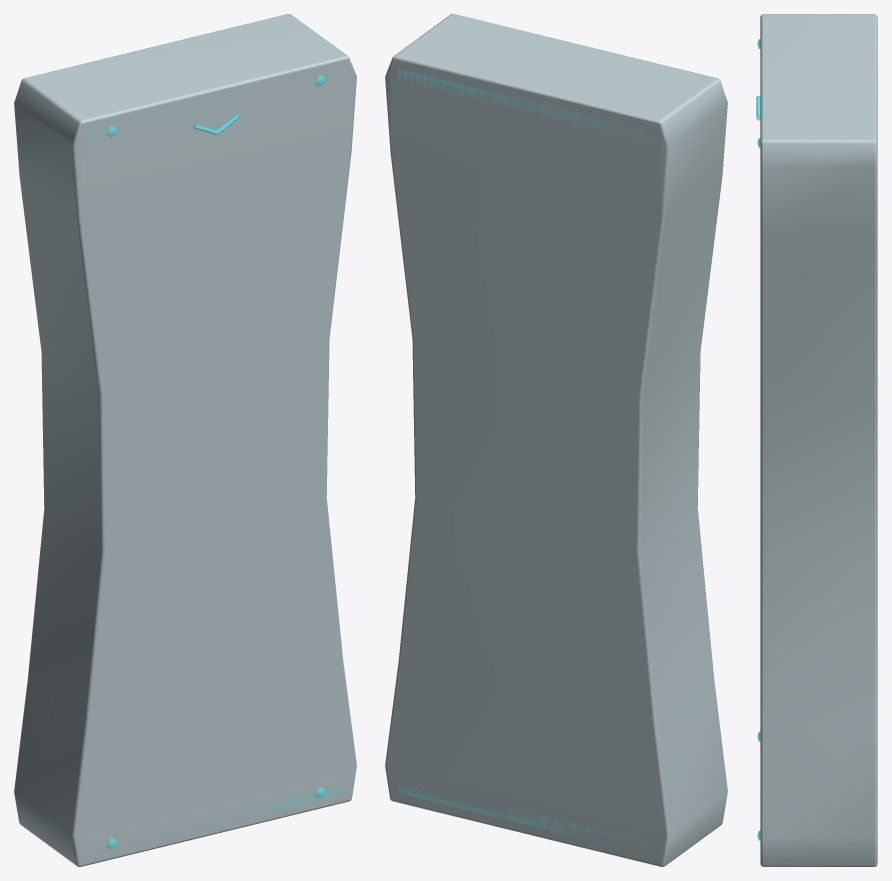
Rendered from water_timer.glb.
3 renders of one model, left to right at view 1: azimuth 30°, elevation 25°; view 2: azimuth 150°, elevation 25°; view 3: azimuth 270°, elevation 25°, orthographic. The views are drawn at different scales.
Visible parts, largest first — view 1: water_timer_case_0, water_timer_case_1; view 2: water_timer_case_0, water_timer_case_1; view 3: water_timer_case_0.
Boxes of the visible parts, x1,y1,x2,y2 form: water_timer_case_0: (14,14,356,866); water_timer_case_1: (87,69,343,849); water_timer_case_0: (385,14,727,866); water_timer_case_1: (398,69,653,848); water_timer_case_0: (760,14,877,866).
Bounding box in the file's own units: 0.104 × 0.26 × 0.0393.
